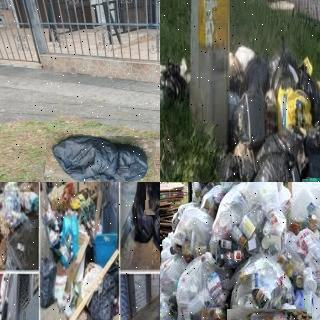Garbage: (207, 182, 288, 275), (45, 133, 155, 182), (227, 254, 299, 320), (175, 250, 236, 320), (284, 224, 320, 302), (167, 201, 214, 258), (284, 182, 320, 238), (230, 88, 264, 145), (252, 151, 302, 182), (296, 62, 320, 123), (240, 54, 269, 100), (160, 61, 186, 108), (303, 122, 320, 182), (129, 199, 152, 243), (39, 257, 57, 308), (145, 182, 160, 215), (151, 213, 160, 249)
